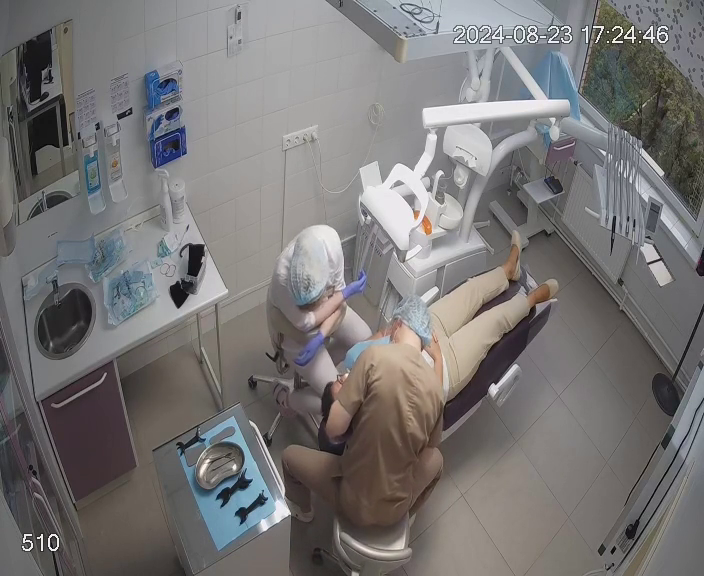Patient: (319, 232, 557, 469)
